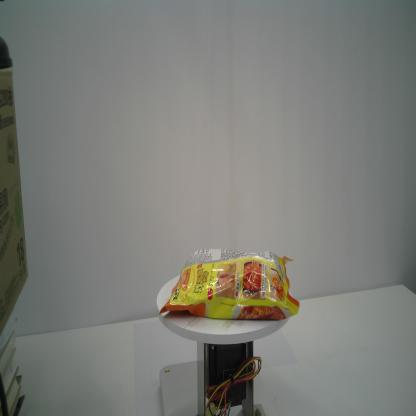Instant Noodles: (160, 247, 300, 326)
